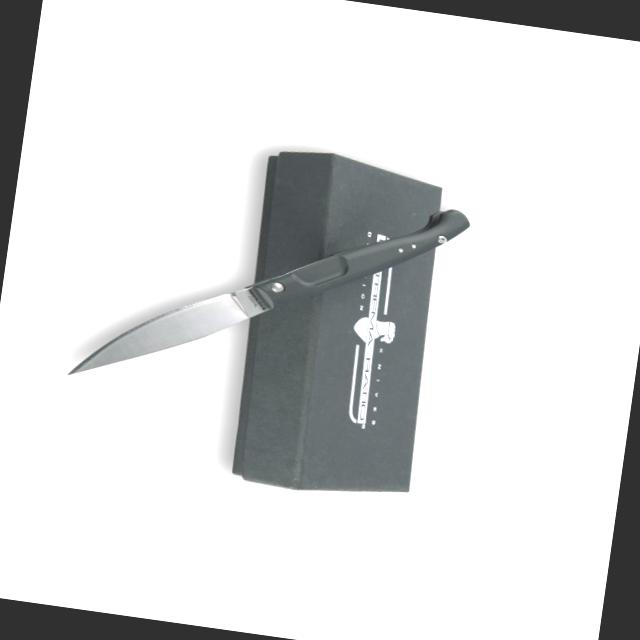knife: (55, 244, 308, 416)
